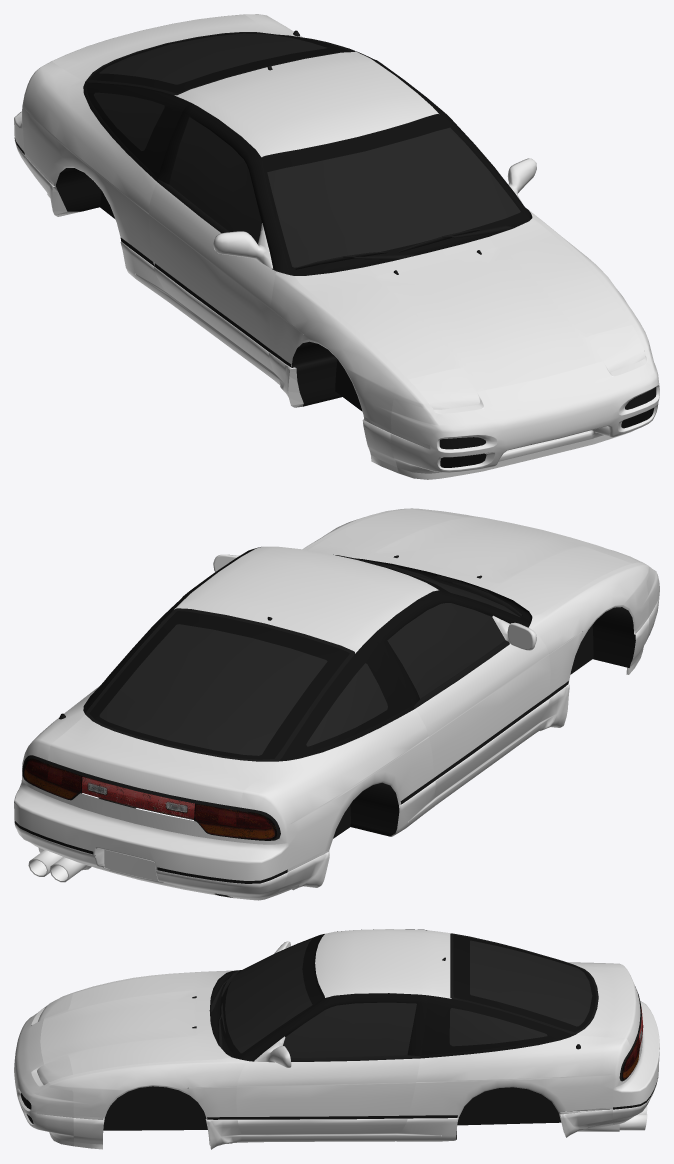
3 views of the same model, one above another, from view 1: azimuth 30°, elevation 25°; view 2: azimuth 150°, elevation 25°; view 3: azimuth 270°, elevation 25° (orthographic). The views are drawn at different scales.
Visible parts, largest first — view 1: Combined Gloss Object 0, Combined O_Glass Object 0, Combined O_Black Object 0, Combined O_Plastic Object 0, Combined O_Plastic Object 1; view 2: Combined Gloss Object 0, Combined O_Glass Object 0, Combined O_Black Object 0, Combined O_Plastic Object 0, Combined O_240SX_L Object 0, Combined O_240SX Object 0, Combined CHROME Object 0; view 3: Combined Gloss Object 0, Combined O_Glass Object 0, Combined O_Black Object 0, Combined O_Plastic Object 0, Combined CHROME Object 0, Combined O_240SX_L Object 0.
Part boxes in pixels (bbox=[...]): Combined Gloss Object 0: bbox=[14, 14, 659, 479]; Combined O_Glass Object 0: bbox=[94, 33, 520, 267]; Combined O_Black Object 0: bbox=[83, 32, 532, 275]; Combined O_Plastic Object 0: bbox=[14, 30, 654, 467]; Combined O_Plastic Object 1: bbox=[439, 387, 656, 449]; Combined Gloss Object 0: bbox=[14, 508, 659, 900]; Combined O_Glass Object 0: bbox=[94, 569, 520, 755]; Combined O_Black Object 0: bbox=[83, 547, 532, 761]; Combined O_Plastic Object 0: bbox=[14, 555, 635, 897]; Combined O_240SX_L Object 0: bbox=[23, 758, 277, 839]; Combined O_240SX Object 0: bbox=[82, 776, 194, 819]; Combined CHROME Object 0: bbox=[28, 556, 531, 882]; Combined Gloss Object 0: bbox=[14, 929, 659, 1149]; Combined O_Glass Object 0: bbox=[225, 939, 592, 1057]; Combined O_Black Object 0: bbox=[209, 929, 596, 1060]; Combined O_Plastic Object 0: bbox=[26, 933, 658, 1139]; Combined CHROME Object 0: bbox=[285, 942, 647, 1131]; Combined O_240SX_L Object 0: bbox=[621, 1036, 639, 1079].
Bounding box in the file's own units: 1.95 × 1.14 × 4.57.
